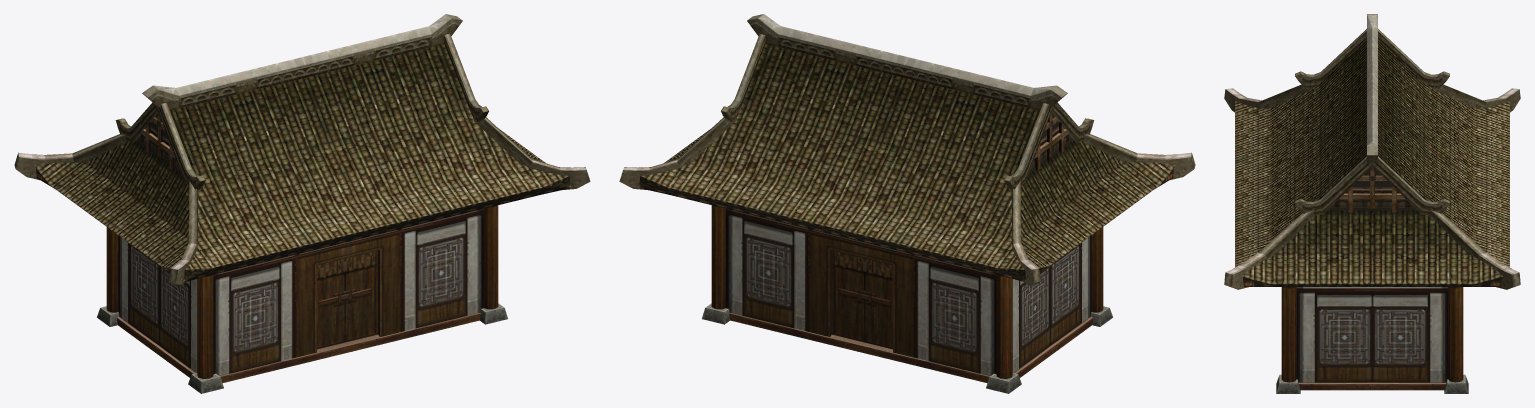
File: b1-016-house9.glb
3 renders of one model, left to right at view 1: azimuth 30°, elevation 25°; view 2: azimuth 150°, elevation 25°; view 3: azimuth 270°, elevation 25°, orthographic. The views are drawn at different scales.
Visible parts, largest first — view 1: b1-016-house9; view 2: b1-016-house9; view 3: b1-016-house9.
Part boxes in pixels (x1,y1,x2,y2): b1-016-house9: [14, 14, 590, 393]; b1-016-house9: [619, 14, 1195, 393]; b1-016-house9: [1224, 14, 1520, 393].
Size of the model in its own units: 11.71 by 7.08 by 7.76.
1 material, 1 textured.
